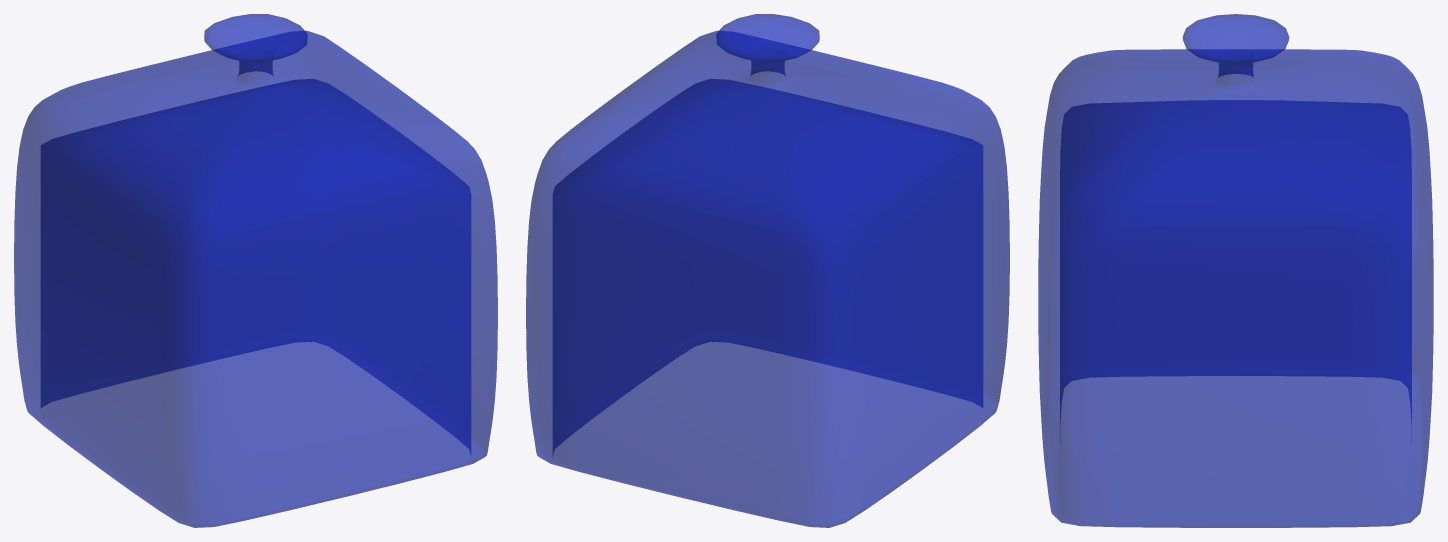
Rendered from anti_glass_cup_solid.fbx.
The picture shows the model from 3 angles, left to right: view 1: azimuth 30°, elevation 25°; view 2: azimuth 150°, elevation 25°; view 3: azimuth 270°, elevation 25°; orthographic projection. The views are drawn at different scales.
Parts seen in each view (by area): view 1: anti_cup; view 2: anti_cup; view 3: anti_cup.
Part boxes in pixels (x1,y1,x2,y2): anti_cup: [14, 14, 497, 527]; anti_cup: [526, 14, 1009, 527]; anti_cup: [1038, 14, 1433, 527].
Bounding box in the file's own units: 10420 × 12293 × 10420.
